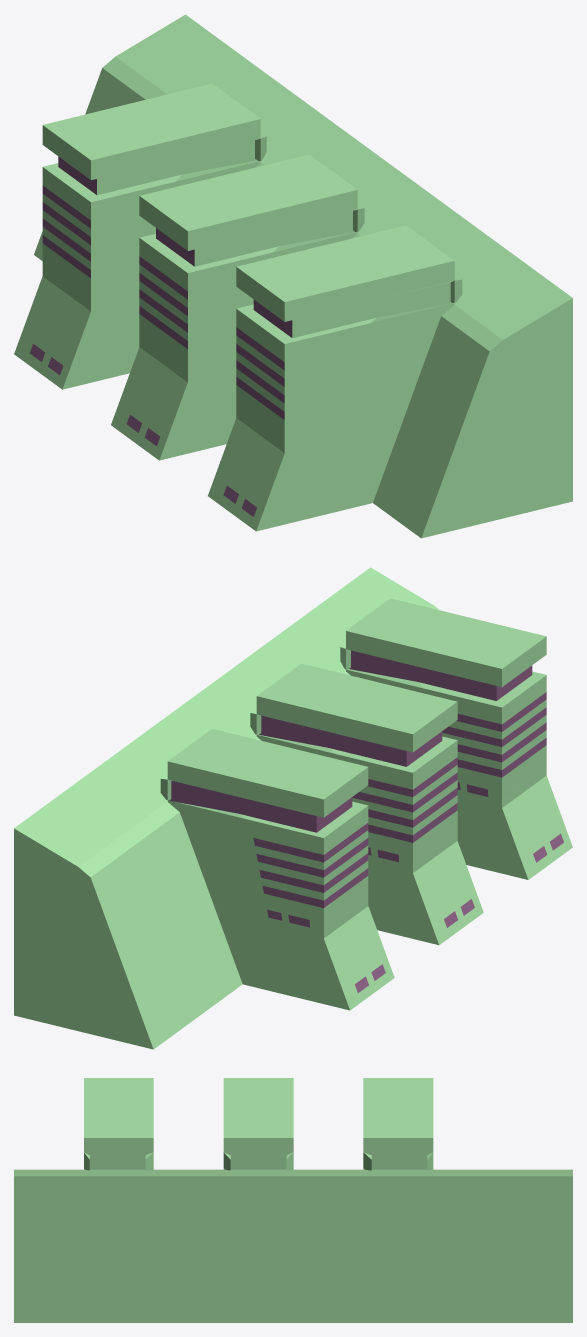
File: building1.glb
The picture shows the model from 3 angles, top to bottom: view 1: azimuth 30°, elevation 25°; view 2: azimuth 150°, elevation 25°; view 3: azimuth 270°, elevation 25°; orthographic projection. The views are drawn at different scales.
Visible parts, largest first — view 1: Cube.003; view 2: Cube.003; view 3: Cube.003.
Part boxes in pixels (<box>): Cube.003: <box>14,14,572,538</box>; Cube.003: <box>14,567,572,1049</box>; Cube.003: <box>14,1078,572,1322</box>.
Size of the model in its own units: 23 by 18.21 by 57.5.
